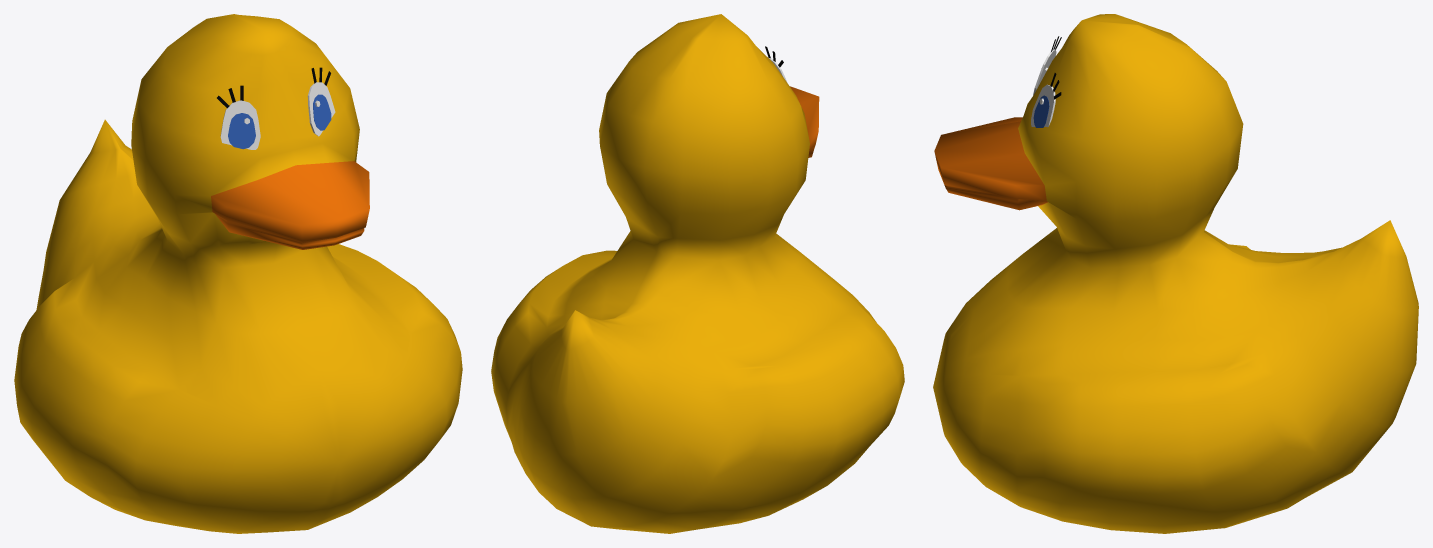
The model's file is Rubber_Duck.fbx.
The picture shows the model from 3 angles, left to right: view 1: azimuth 30°, elevation 25°; view 2: azimuth 150°, elevation 25°; view 3: azimuth 270°, elevation 25°; orthographic projection. The views are drawn at different scales.
Visible parts, largest first — view 1: Sphere; view 2: Sphere; view 3: Sphere.
Part boxes in pixels (<box>): Sphere: <box>14,14,462,533</box>; Sphere: <box>491,14,904,533</box>; Sphere: <box>933,14,1418,533</box>.
Size of the model in its own units: 140 by 168 by 155.
